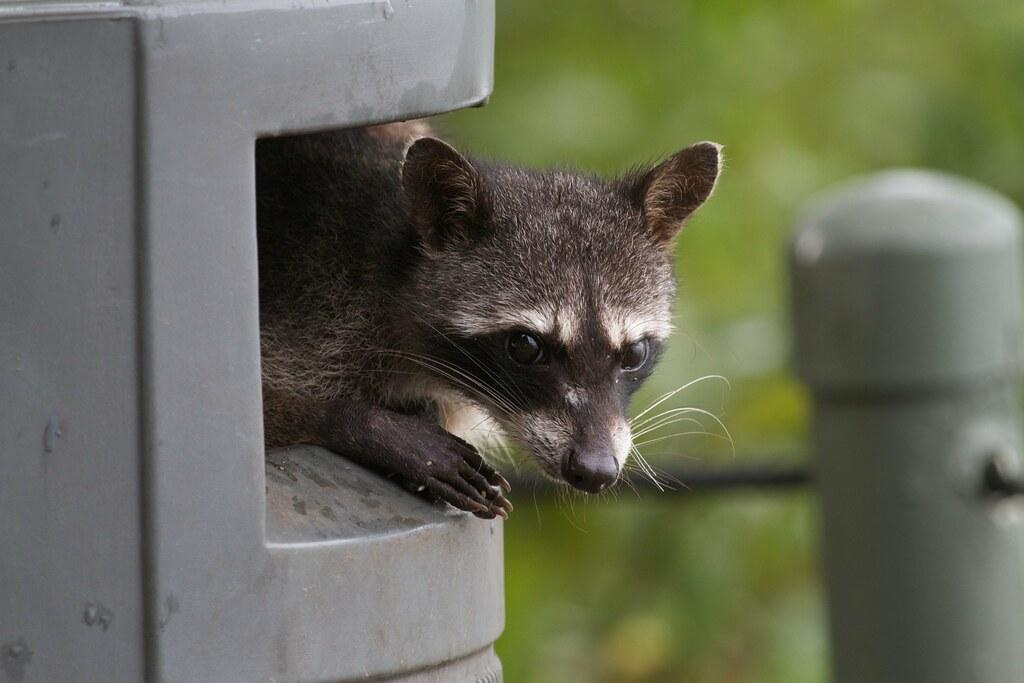raccoon: (255, 107, 730, 517)
